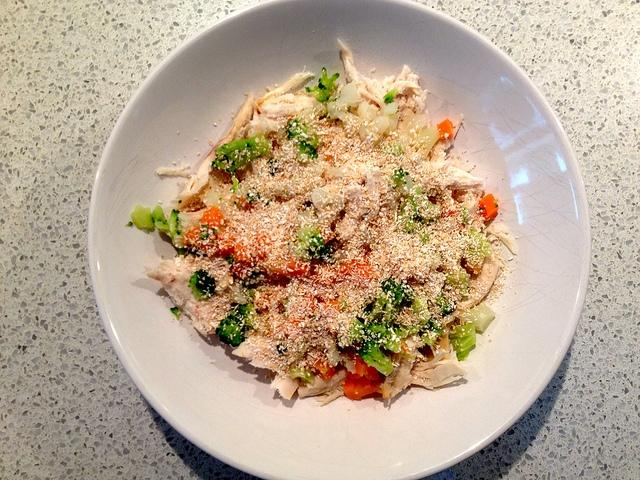carrot: (267, 258, 308, 280), (354, 252, 372, 288), (234, 244, 253, 277), (479, 194, 499, 221), (182, 226, 204, 250), (202, 206, 224, 228), (342, 376, 362, 400), (315, 360, 338, 380), (348, 354, 364, 379), (436, 118, 454, 139), (354, 379, 373, 397), (364, 362, 382, 381), (200, 242, 220, 258), (341, 272, 344, 278)
